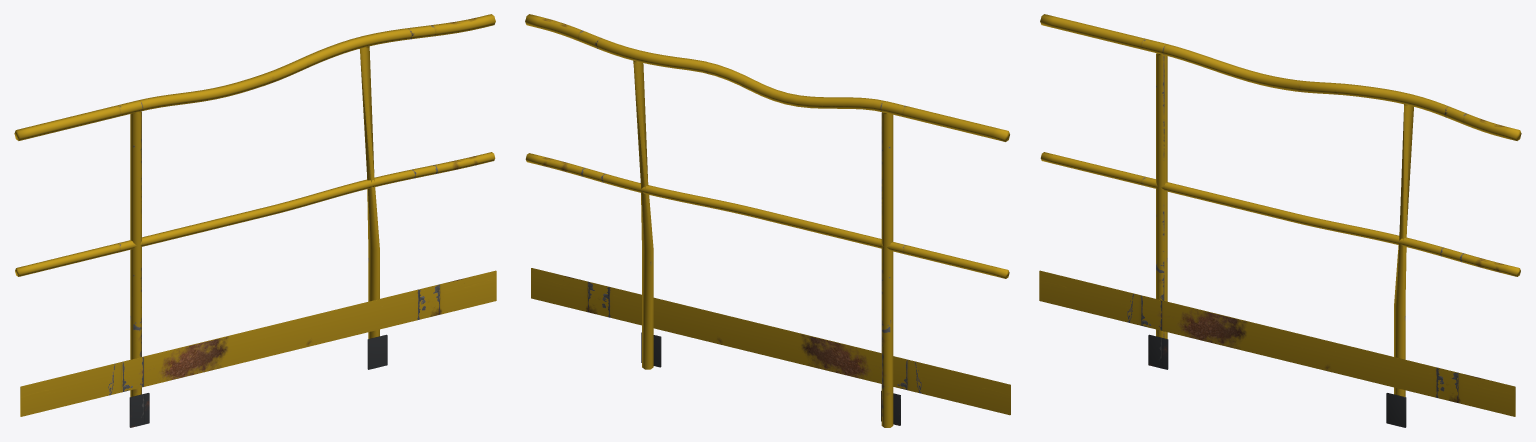
Rendered from SM_IK_Railing_200_Bent_LOD2.fbx.
The picture shows the model from 3 angles, left to right: view 1: azimuth 30°, elevation 25°; view 2: azimuth 150°, elevation 25°; view 3: azimuth 330°, elevation 25°; orthographic projection.
Parts seen in each view (by area): view 1: SM_IK_Railing_200_Bent_LOD2; view 2: SM_IK_Railing_200_Bent_LOD2; view 3: SM_IK_Railing_200_Bent_LOD2.
Part boxes in pixels (<box>): SM_IK_Railing_200_Bent_LOD2: <box>14,14,496,427</box>; SM_IK_Railing_200_Bent_LOD2: <box>525,14,1010,427</box>; SM_IK_Railing_200_Bent_LOD2: <box>1039,14,1521,427</box>.
Size of the model in its own units: 200 by 12 by 129.
